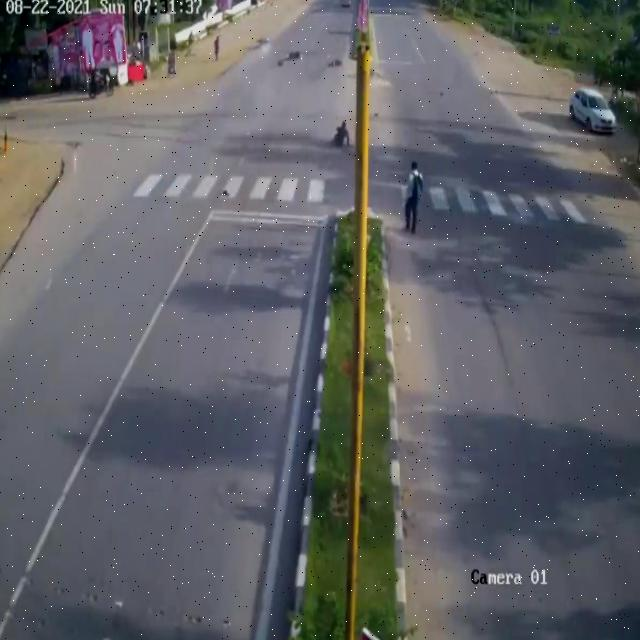accident: (245, 30, 350, 75)
